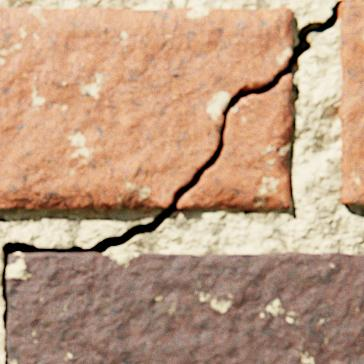brick: (7, 252, 363, 363), (338, 3, 363, 205)
broken_brick: (0, 9, 291, 209), (177, 75, 290, 209)
crack: (1, 0, 363, 363)
